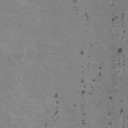oxide scale of temperature system: (54, 90, 124, 126), (98, 12, 124, 84), (84, 12, 90, 22), (14, 54, 24, 58), (38, 52, 44, 58), (80, 50, 84, 56)
